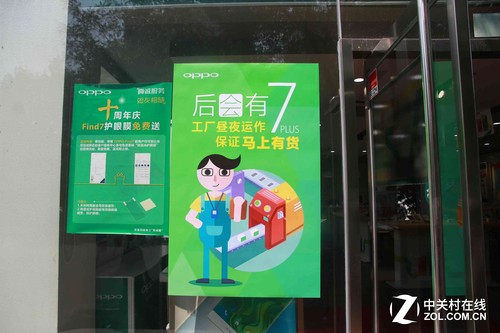bill: (167, 60, 321, 296), (66, 80, 170, 236)
